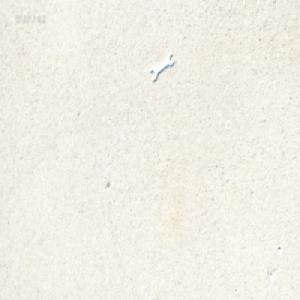Wrench: (149, 53, 173, 84)
